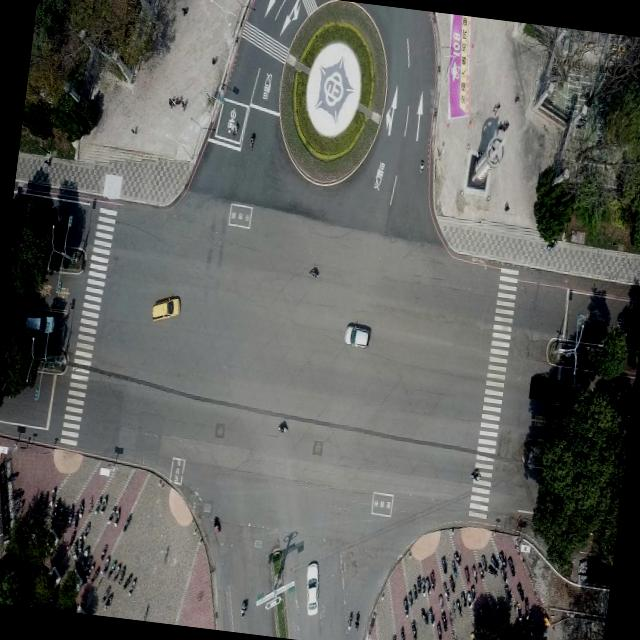bike: (8, 484, 24, 504), (426, 567, 437, 594), (506, 554, 518, 578), (102, 584, 114, 608), (488, 550, 500, 574), (447, 572, 458, 596), (514, 580, 526, 602), (408, 617, 419, 640), (402, 591, 412, 616), (420, 604, 431, 626), (126, 574, 136, 598), (501, 582, 513, 602), (72, 534, 84, 554), (476, 553, 486, 577), (436, 610, 446, 632), (96, 491, 106, 513), (439, 552, 449, 574), (110, 558, 120, 580), (453, 596, 463, 618), (462, 564, 472, 586), (436, 586, 446, 608), (7, 466, 19, 484), (110, 505, 120, 526), (351, 608, 361, 629), (98, 541, 108, 562), (415, 574, 424, 596), (497, 564, 508, 582), (118, 562, 126, 585), (451, 548, 461, 566), (240, 594, 248, 616), (396, 624, 407, 640), (48, 484, 56, 506), (76, 497, 84, 518), (468, 582, 476, 602), (122, 512, 130, 532), (278, 417, 288, 433), (82, 520, 90, 538)
car: (302, 560, 324, 614), (150, 290, 182, 322), (22, 313, 58, 337), (344, 319, 372, 346)
